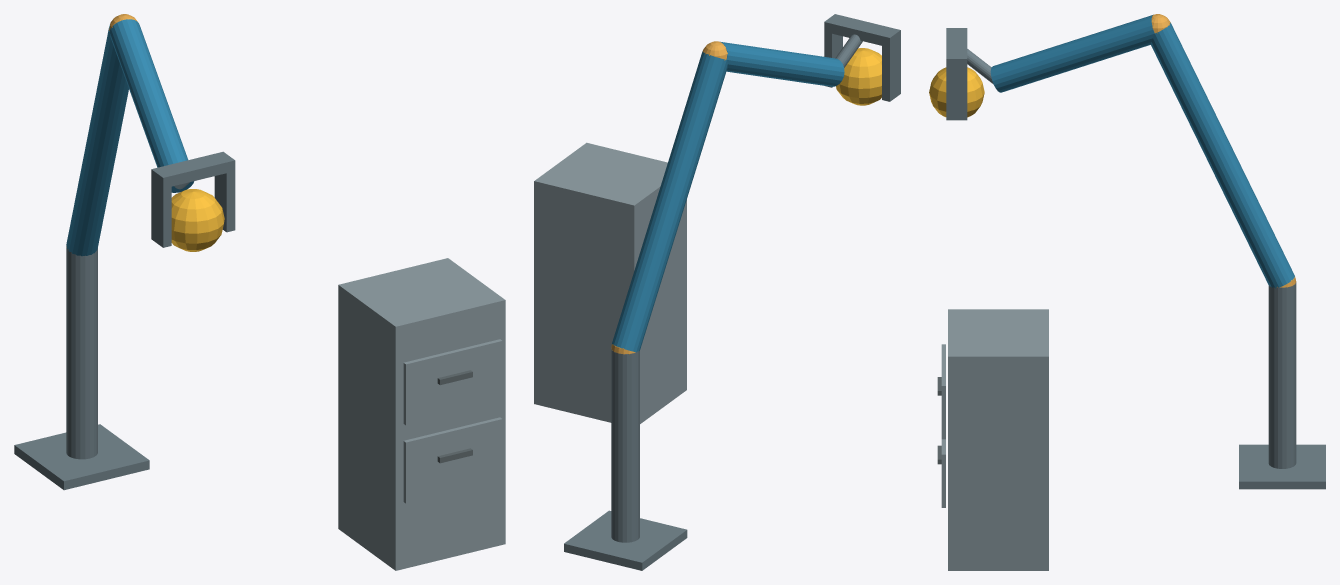
The picture shows the model from 3 angles, left to right: view 1: azimuth 30°, elevation 25°; view 2: azimuth 150°, elevation 25°; view 3: azimuth 270°, elevation 25°; orthographic projection. The views are drawn at different scales.
Parts seen in each view (by area): view 1: cabinet_1 body, fixed post, moving link 1, cabinet_1 drawer front.001, cabinet_1 drawer front, moving link 2, pedestal, ball ball_1, gripper bridge, gripper finger -1, gripper finger 1; view 2: cabinet_1 body, moving link 1, fixed post, pedestal, moving link 2, ball ball_1, gripper bridge, gripper finger -1; view 3: cabinet_1 body, moving link 1, fixed post, moving link 2, pedestal, ball ball_1, gripper finger 1, gripper bridge.
Part boxes in pixels (x1,y1,x2,y2): cabinet_1 body: (338,258,505,570); fixed post: (66,245,97,459); moving link 1: (66,25,128,256); cabinet_1 drawer front.001: (403,339,502,425); cabinet_1 drawer front: (403,417,502,503); moving link 2: (109,19,194,192); pedestal: (14,424,149,490); ball ball_1: (171,189,224,251); gripper bridge: (151,151,235,188); gripper finger -1: (151,180,171,247); gripper finger 1: (214,171,235,232); cabinet_1 body: (534,142,686,423); moving link 1: (612,51,727,352); fixed post: (611,349,639,542); pedestal: (564,510,687,570); moving link 2: (720,41,844,86); ball ball_1: (836,48,881,105); gripper bridge: (824,14,900,47); gripper finger -1: (882,40,900,101); cabinet_1 body: (948,309,1048,570); moving link 1: (1150,22,1294,288); fixed post: (1268,282,1296,468); moving link 2: (990,14,1154,92); pedestal: (1239,444,1325,489); ball ball_1: (929,67,984,117); gripper finger 1: (946,68,967,120); gripper bridge: (946,28,967,68).
Bounding box in the file's own units: 1 × 1.41 × 1.14.
